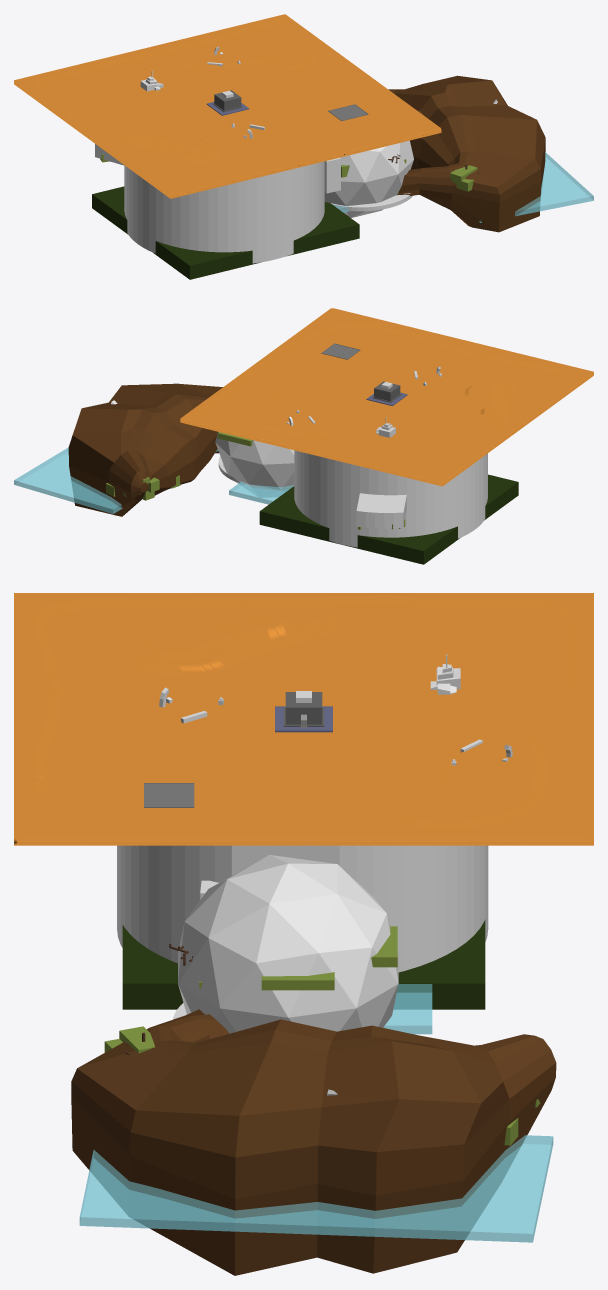
The model's file is Strelitzia_LD.fbx.
3 views of the same model, one above another, from view 1: azimuth 30°, elevation 25°; view 2: azimuth 150°, elevation 25°; view 3: azimuth 270°, elevation 25° (orthographic). The views are drawn at different scales.
Parts seen in each view (by area): view 1: Desert-col, Cave-col, Silo-col, Ground-col, Siloup-col, Dome-col, Waterfall.002, Dome_Ground-col, Occlusion, bunker-col, Heliport-col; view 2: Desert-col, Cave-col, Silo-col, Ground-col, Siloup-col, Dome-col, Waterfall.002, Waterfall.001, bunker-col, Heliport-col; view 3: Desert-col, Cave-col, Dome-col, Waterfall.002, Silo-col, Ground-col, Siloup-col, Waterfall.001, Leaves.010-col, Occlusion.001, Heliport-col, bunker-col.
Part boxes in pixels (x1=…): Desert-col: x1=14, y1=14, x2=441, y2=198; Cave-col: x1=388, y1=75, x2=545, y2=232; Silo-col: x1=95, y1=144, x2=324, y2=263; Ground-col: x1=92, y1=186, x2=359, y2=279; Siloup-col: x1=124, y1=161, x2=324, y2=208; Dome-col: x1=324, y1=140, x2=413, y2=217; Waterfall.002: x1=479, y1=152, x2=593, y2=222; Dome_Ground-col: x1=331, y1=195, x2=412, y2=211; Occlusion: x1=324, y1=157, x2=340, y2=193; bunker-col: x1=213, y1=90, x2=242, y2=112; Heliport-col: x1=328, y1=104, x2=368, y2=120; Desert-col: x1=180, y1=308, x2=593, y2=486; Cave-col: x1=68, y1=383, x2=222, y2=516; Silo-col: x1=294, y1=457, x2=487, y2=547; Ground-col: x1=259, y1=474, x2=518, y2=564; Siloup-col: x1=294, y1=450, x2=487, y2=495; Dome-col: x1=215, y1=432, x2=294, y2=497; Waterfall.002: x1=14, y1=447, x2=218, y2=513; Waterfall.001: x1=229, y1=481, x2=294, y2=504; bunker-col: x1=372, y1=381, x2=401, y2=402; Heliport-col: x1=321, y1=343, x2=360, y2=359; Desert-col: x1=14, y1=593, x2=593, y2=845; Cave-col: x1=71, y1=1009, x2=556, y2=1275; Dome-col: x1=178, y1=855, x2=398, y2=1033; Waterfall.002: x1=79, y1=1135, x2=553, y2=1242; Silo-col: x1=117, y1=845, x2=488, y2=972; Ground-col: x1=122, y1=919, x2=485, y2=1009; Siloup-col: x1=124, y1=845, x2=480, y2=896; Waterfall.001: x1=383, y1=984, x2=432, y2=1034; Leaves.010-col: x1=199, y1=926, x2=397, y2=990; Occlusion.001: x1=232, y1=845, x2=339, y2=875; Heliport-col: x1=144, y1=783, x2=194, y2=807; bunker-col: x1=283, y1=692, x2=324, y2=728.
Size of the model in its own units: 42369 by 15324 by 25000.
